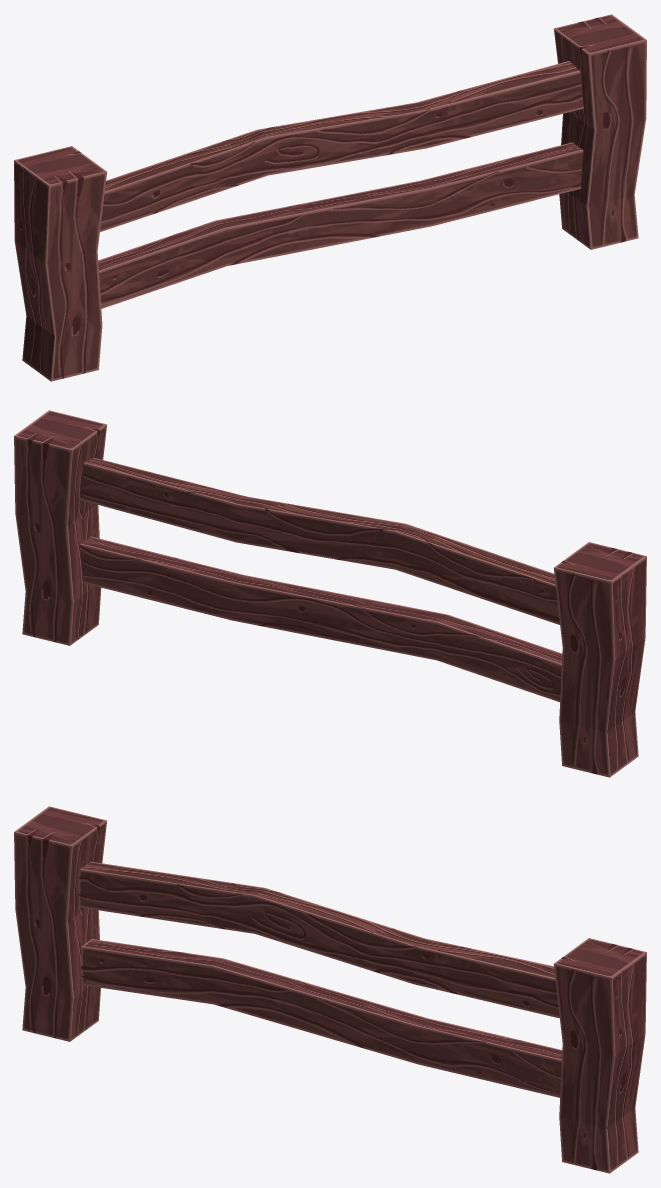
File: fence_03.glb
3 renders of one model, top to bottom at view 1: azimuth 30°, elevation 25°; view 2: azimuth 150°, elevation 25°; view 3: azimuth 330°, elevation 25°, orthographic.
Parts seen in each view (by area): view 1: Fence.003; view 2: Fence.003; view 3: Fence.003.
Part boxes in pixels (x1,y1,x2,y2): Fence.003: (14, 14, 646, 381); Fence.003: (14, 410, 646, 777); Fence.003: (14, 806, 646, 1173).
Size of the model in its own units: 6.3 by 2 by 0.6393.
Materials: 1 (1 with a texture image).
